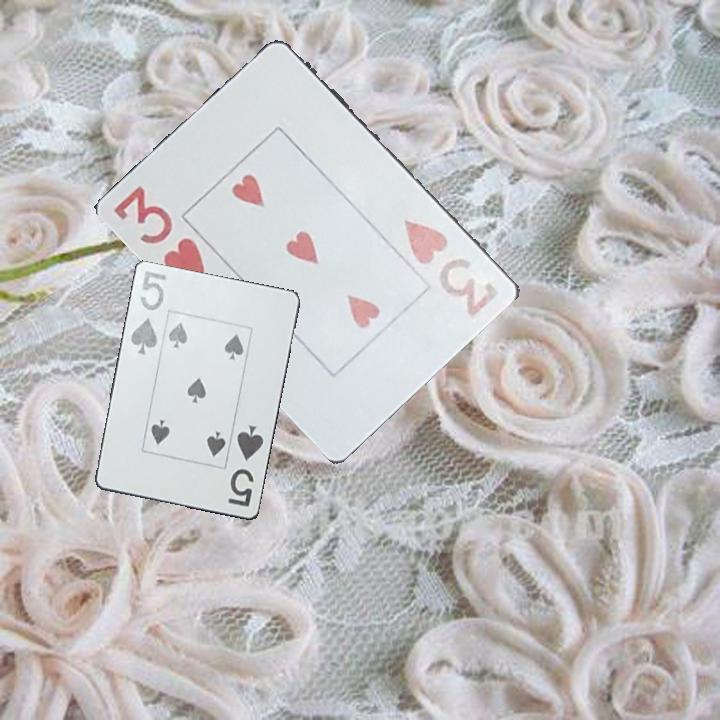3h: (401, 216, 503, 320), (109, 182, 211, 286)
5s: (127, 267, 169, 358), (224, 422, 267, 510)
